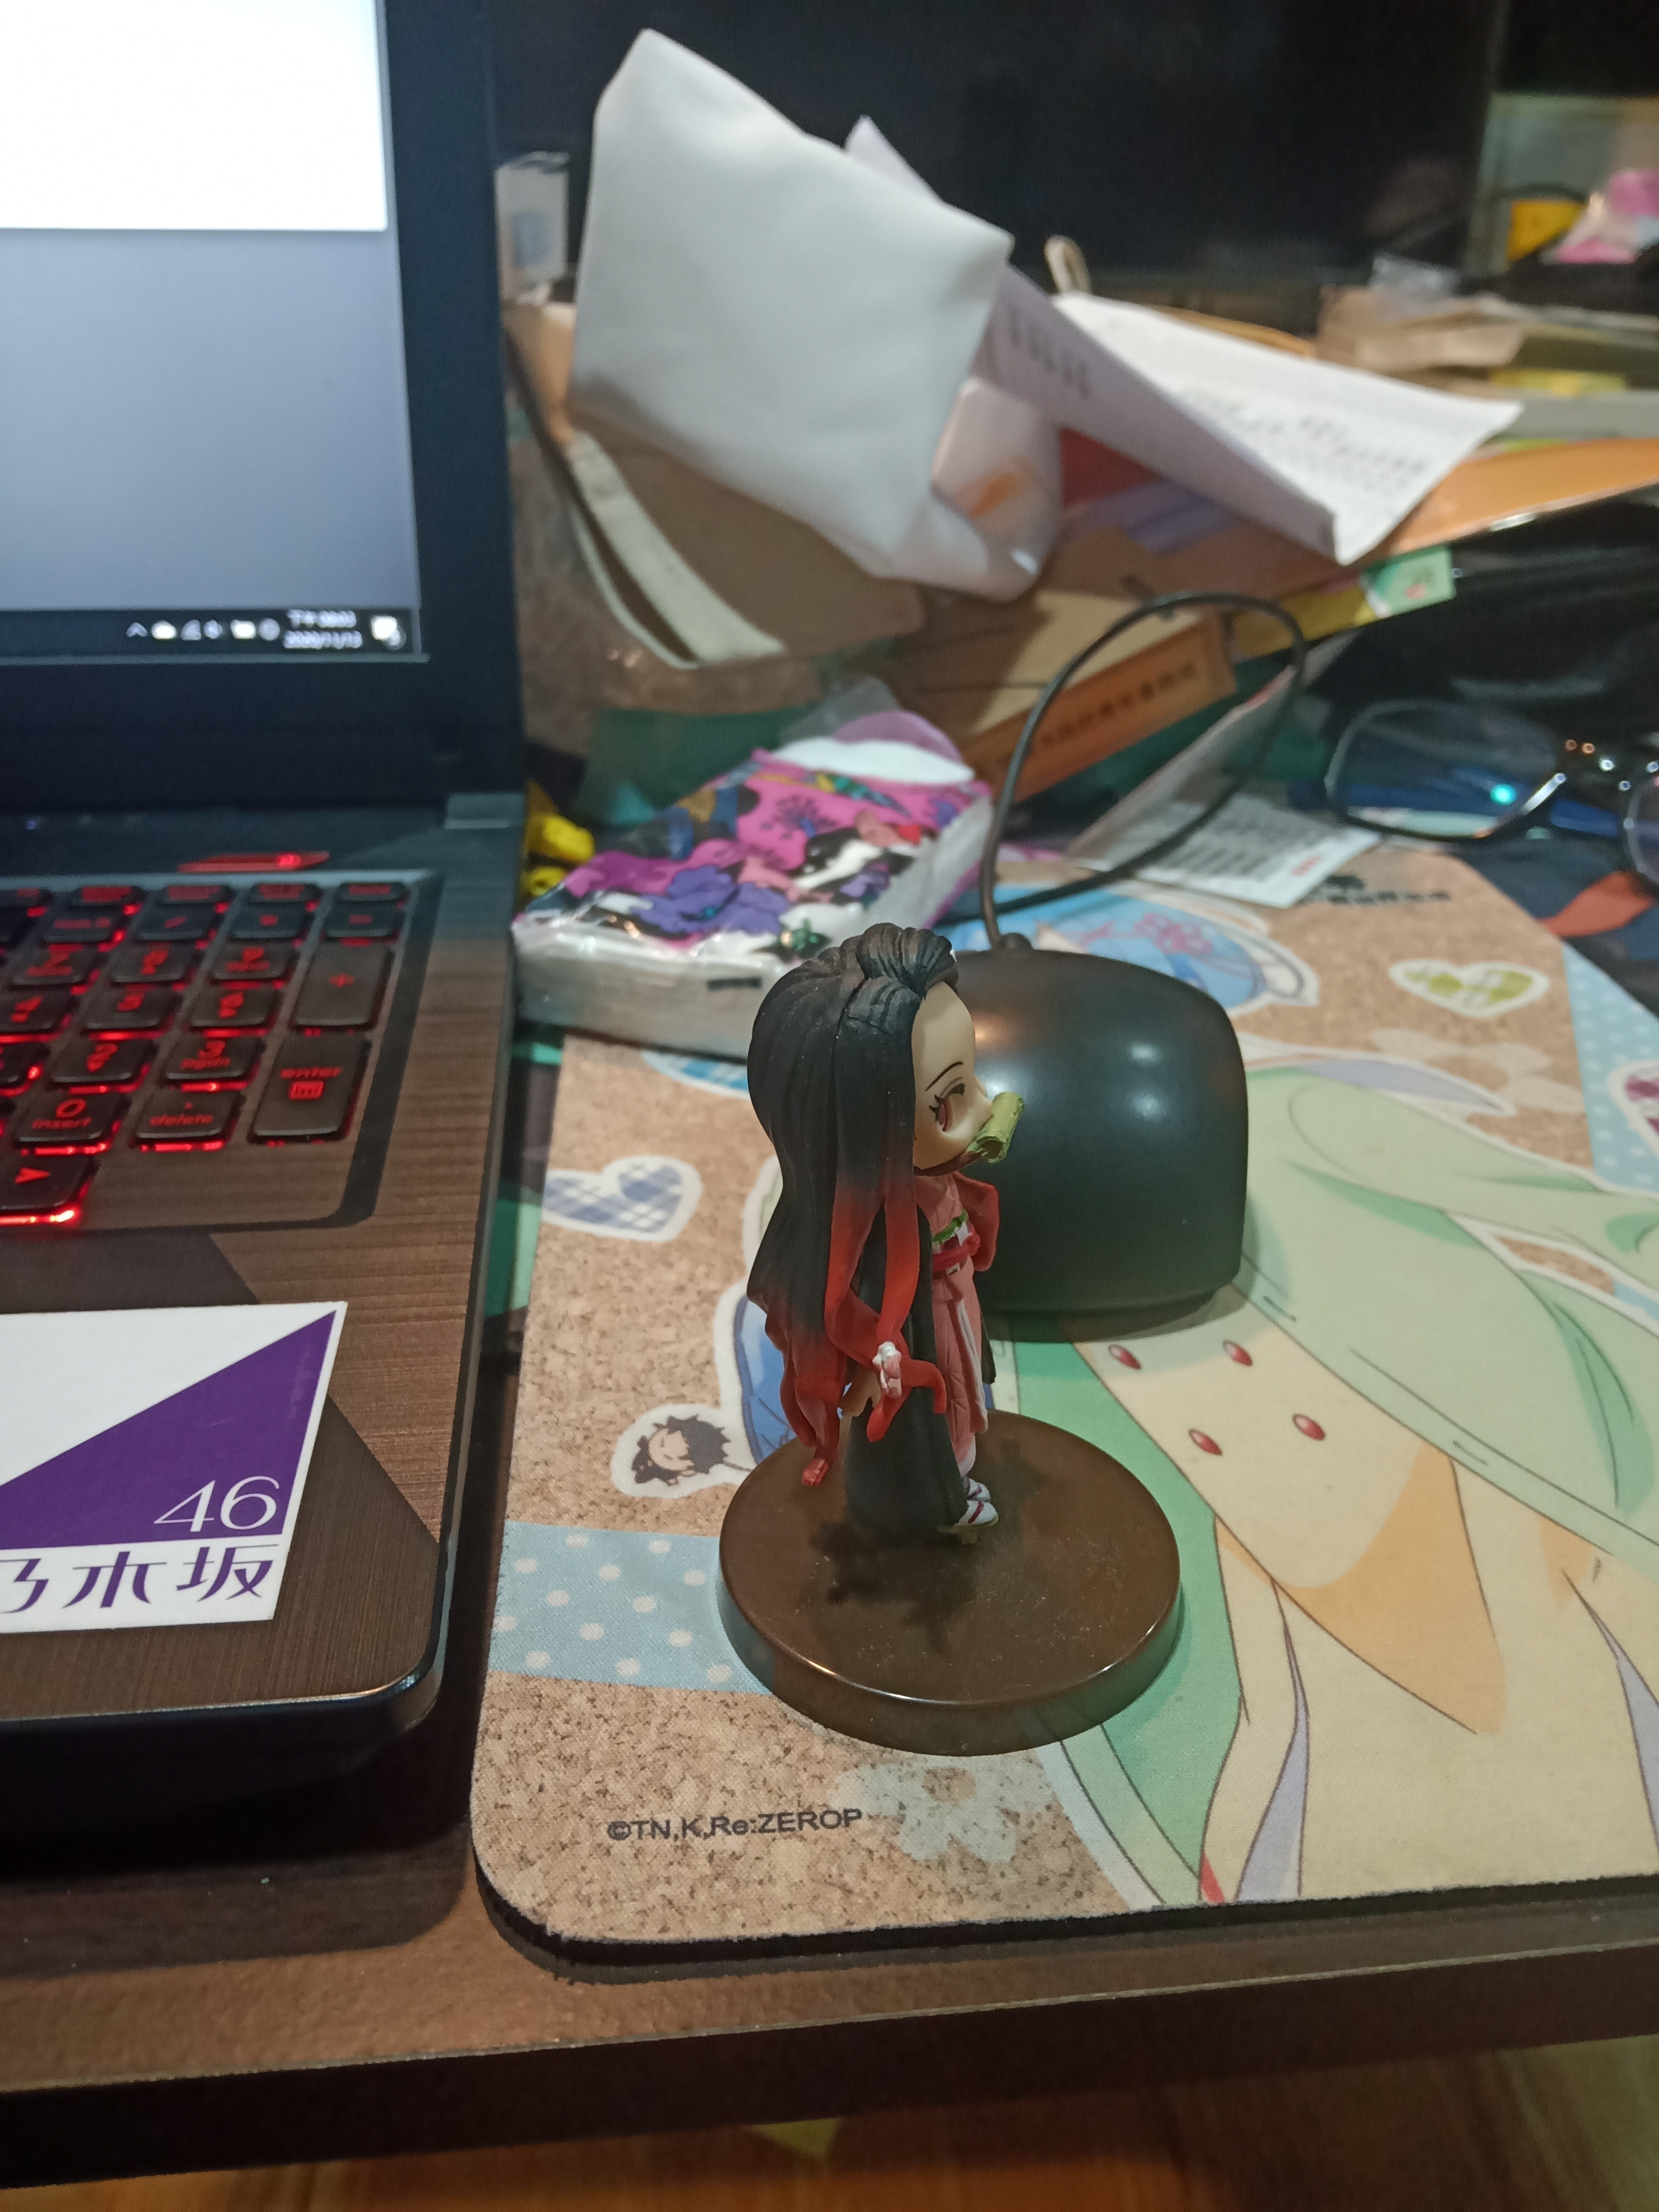Nezuko: (708, 911, 1204, 1768)
